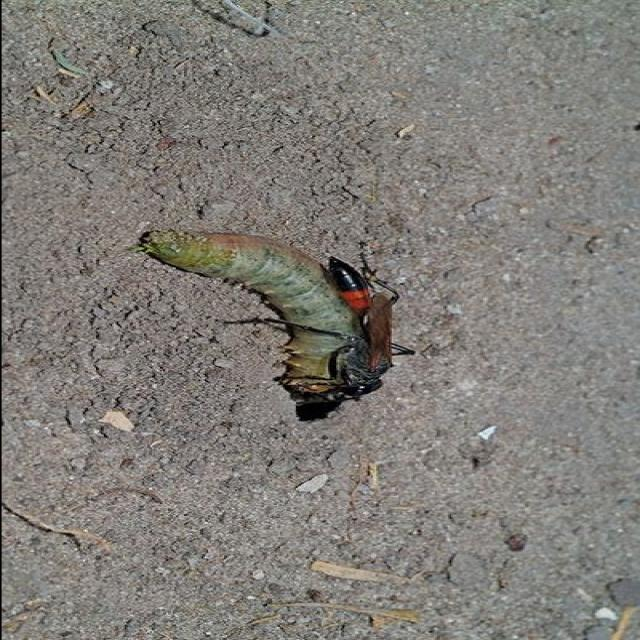army worm: (127, 221, 425, 414)
